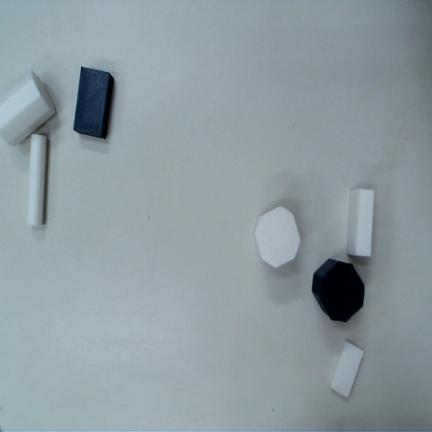Cilindro: (28, 134, 47, 226)
Paralelepipedo: (74, 67, 113, 139), (330, 340, 364, 399), (346, 189, 375, 256)
Prisma_hexagonal: (0, 71, 55, 145), (312, 258, 365, 322), (254, 206, 300, 267)
